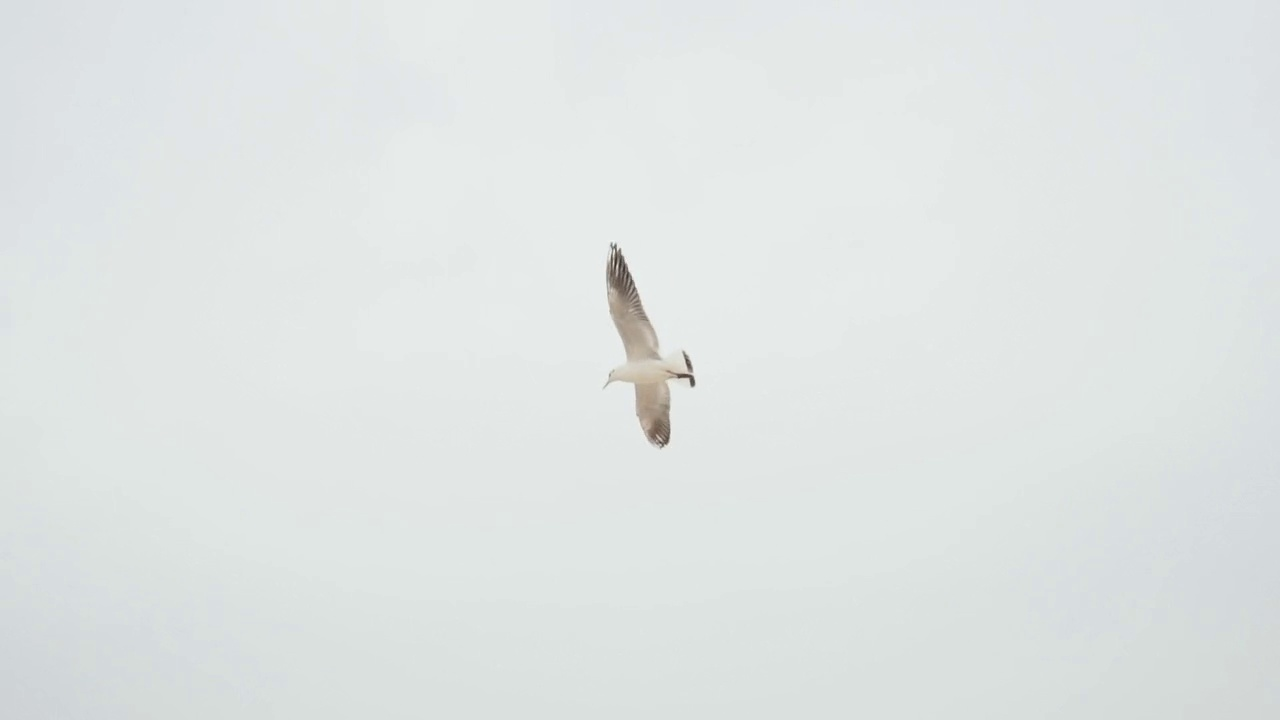bird: (603, 241, 695, 451)
